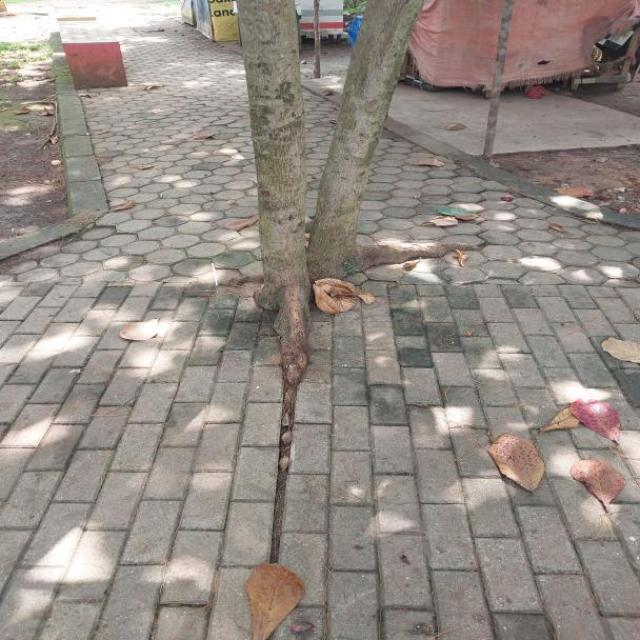tree ahead at: (244, 0, 409, 375)
